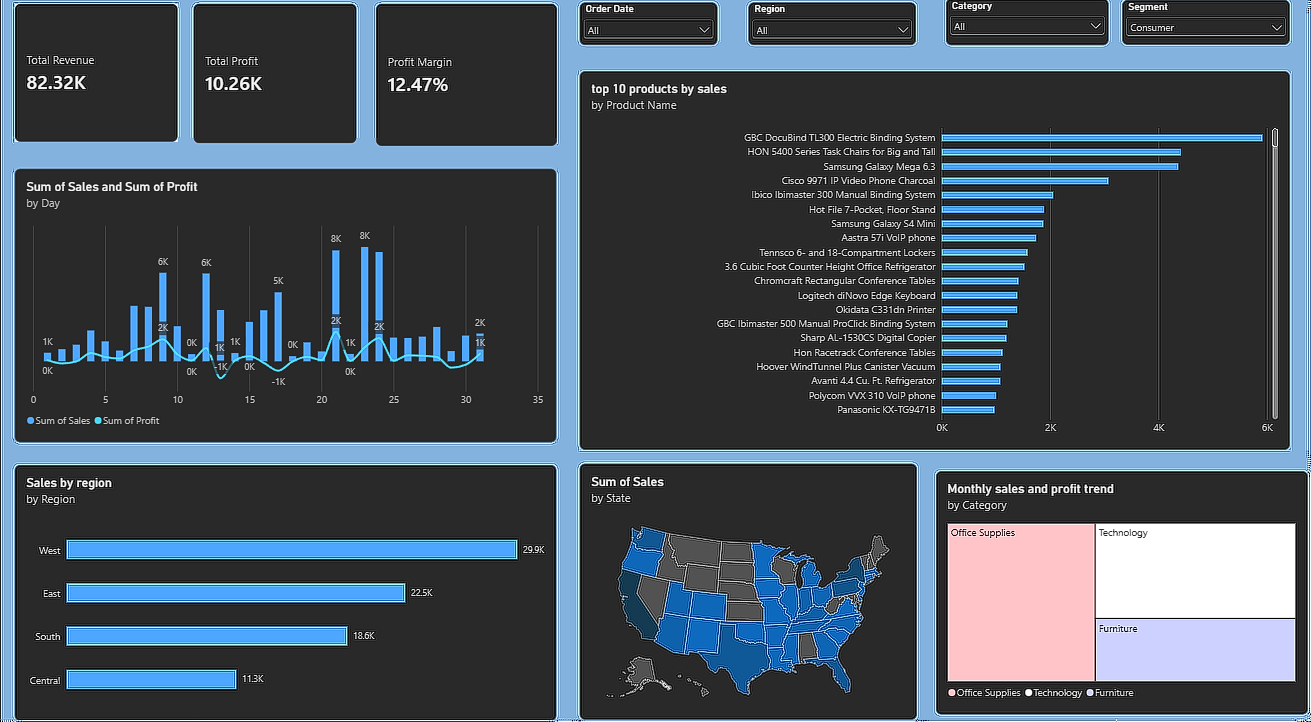

The page's visual inventory and layout, read from the dashboard file:
{"tool":"powerbi","page":{"name":"Page 1","canvas":[1920,1080],"ordinal":0},"visuals":[{"type":"cardVisual","title":"Total Revenue","fields":{"Data":["Sum(Superstore_Clean.Sales)"]},"box":[20,20,236,200],"z":0},{"type":"clusteredBarChart","fields":{"Category":["Superstore_Clean.Region"],"Y":["Sum(Superstore_Clean.Sales)"]},"box":[20,688,784,370],"z":1},{"type":"lineClusteredColumnComboChart","fields":{"Category":["Superstore_Clean.Order Date.Variation.Date Hierarchy.Year","Superstore_Clean.Order Date.Variation.Date Hierarchy.Quarter","Superstore_Clean.Order Date.Variation.Date Hierarchy.Month","Superstore_Clean.Order Date.Variation.Date Hierarchy.Day"],"Y":["Sum(Superstore_Clean.Sales)"],"Y2":["Sum(Superstore_Clean.Profit)"]},"box":[20,258,784,396],"z":2},{"type":"barChart","fields":{"Category":["Superstore_Clean.Product Name"],"Y":["Sum(Superstore_Clean.Sales)"]},"box":[838,118,1028,548],"z":3},{"type":"slicer","fields":{"Values":["Superstore_Clean.Order Date"]},"box":[837.9,18.1,200.9,123.1],"z":4},{"type":"slicer","fields":{"Values":["Superstore_Clean.Region"]},"box":[1082.2,18.1,242.5,123.1],"z":5},{"type":"slicer","fields":{"Values":["Superstore_Clean.Category"]},"box":[1371.7,12.7,231.6,128.5],"z":6},{"type":"slicer","fields":{"Values":["Superstore_Clean.Segment"]},"box":[1623.3,14.5,242.5,126.7],"z":7},{"type":"cardVisual","title":"Profit margin","fields":{"Data":["Superstore_Clean.Profit Margin"]},"box":[542,20,262,206],"z":8},{"type":"shapeMap","fields":{"Category":["Superstore_Clean.State"],"Value":["Sum(Superstore_Clean.Sales)"]},"box":[838,686,488,370],"z":9},{"type":"treemap","fields":{"Group":["Superstore_Clean.Category"],"Values":["Sum(Superstore_Clean.Sales)"]},"box":[1354,696,538,352],"z":10},{"type":"cardVisual","title":"Total profit ","fields":{"Data":["Sum(Superstore_Clean.Profit)"]},"box":[278,20,236,202],"z":11}]}

Visuals, with their boxes in screenshot pixels (x1, y1, x2, y2), scaled from the page's 1920x1080 canvas onto the 1311x722 screenshot:
"Total Revenue" cardVisual: rect(14, 13, 175, 147)
clusteredBarChart - Superstore_Clean.Region x Sum(Superstore_Clean.Sales): rect(14, 460, 549, 707)
lineClusteredColumnComboChart - Superstore_Clean.Order Date.Variation.Date Hierarchy.Year x Superstore_Clean.Order Date.Variation.Date Hierarchy.Quarter: rect(14, 172, 549, 437)
barChart - Superstore_Clean.Product Name x Sum(Superstore_Clean.Sales): rect(572, 79, 1274, 445)
slicer - Superstore_Clean.Order Date: rect(572, 12, 709, 94)
slicer - Superstore_Clean.Region: rect(739, 12, 905, 94)
slicer - Superstore_Clean.Category: rect(937, 8, 1095, 94)
slicer - Superstore_Clean.Segment: rect(1108, 10, 1274, 94)
"Profit margin" cardVisual: rect(370, 13, 549, 151)
shapeMap - Superstore_Clean.State x Sum(Superstore_Clean.Sales): rect(572, 459, 905, 706)
treemap - Superstore_Clean.Category x Sum(Superstore_Clean.Sales): rect(925, 465, 1292, 701)
"Total profit " cardVisual: rect(190, 13, 351, 148)
